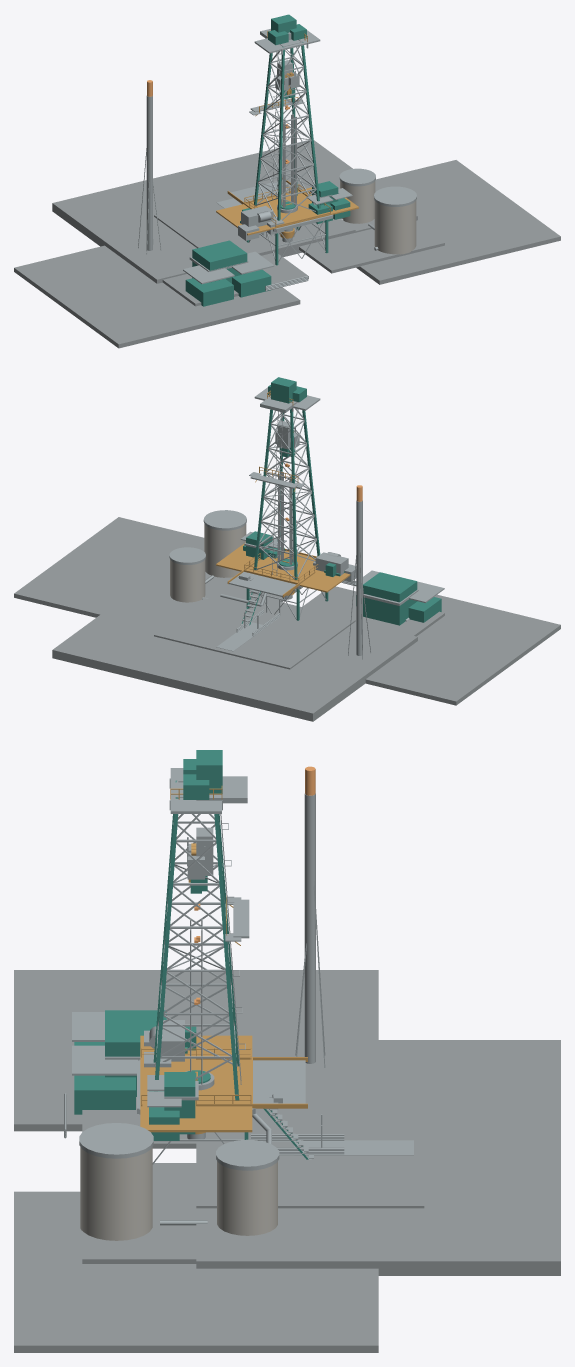
Rendered from wellpad.glb.
3 views of the same model, one above another, from view 1: azimuth 30°, elevation 25°; view 2: azimuth 150°, elevation 25°; view 3: azimuth 270°, elevation 25° (orthographic). The views are drawn at different scales.
Visible parts, largest first — view 1: wellpad, travelingBlock; view 2: wellpad, travelingBlock; view 3: wellpad, travelingBlock.
Boxes of the visible parts, x1,y1,x2,y2 form: wellpad: (14, 14, 560, 348); travelingBlock: (275, 60, 299, 99); wellpad: (14, 377, 560, 721); travelingBlock: (275, 421, 299, 457); wellpad: (14, 750, 560, 1352); travelingBlock: (187, 827, 213, 893).
Size of the model in its own units: 78 by 39.8 by 48.
